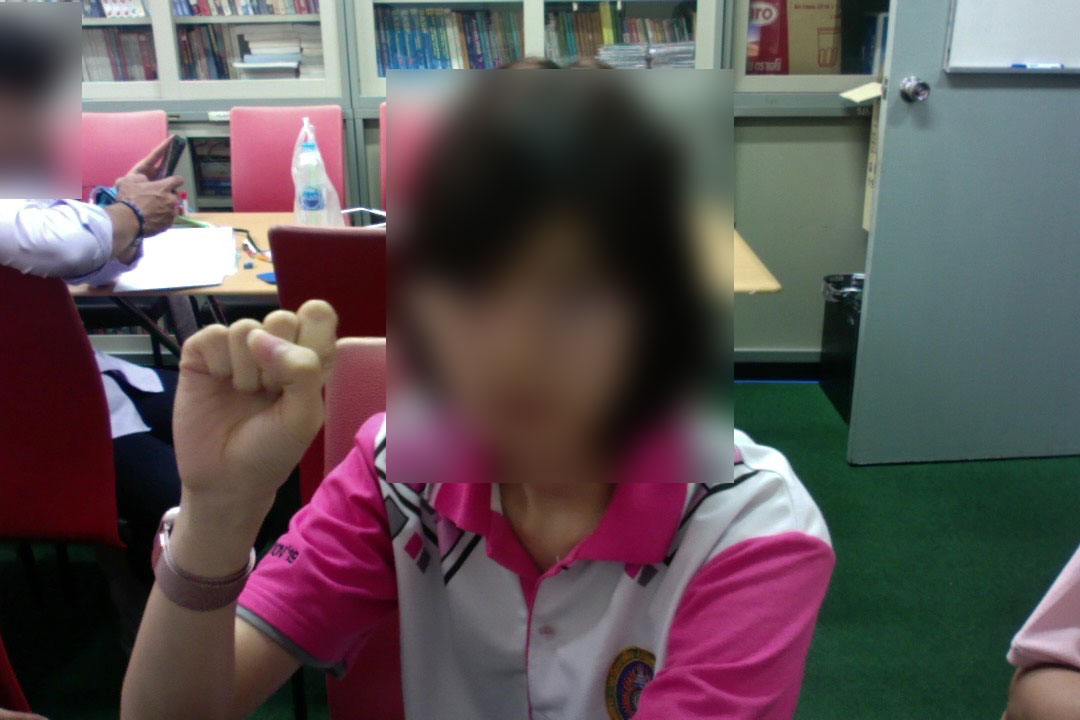sor: (166, 294, 345, 524)
